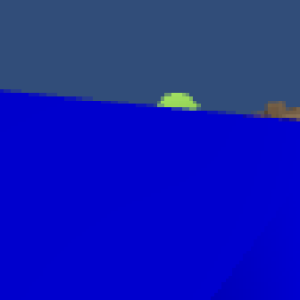goodGoal: (154, 89, 201, 109)
platform: (1, 119, 298, 300)
